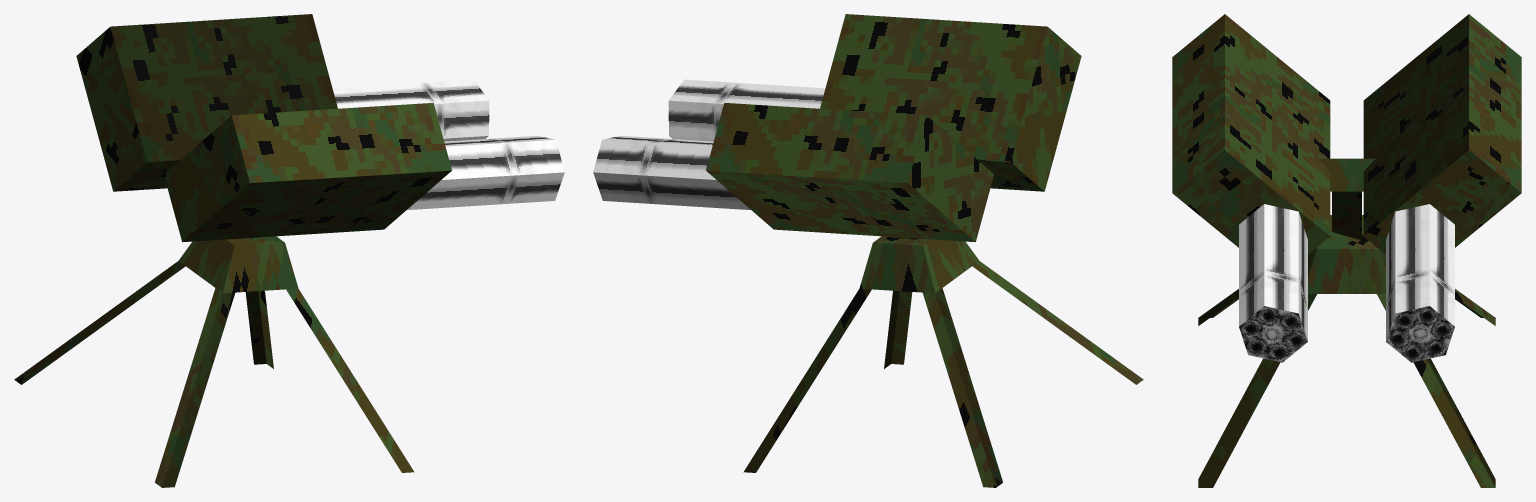
Rendered from primary_352.glb.
The picture shows the model from 3 angles, left to right: view 1: azimuth 30°, elevation 25°; view 2: azimuth 150°, elevation 25°; view 3: azimuth 270°, elevation 25°; orthographic projection.
Visible parts, largest first — view 1: Object; view 2: Object; view 3: Object.
Part boxes in pixels (<box>): Object: <box>14,14,564,487</box>; Object: <box>593,14,1143,487</box>; Object: <box>1172,14,1521,487</box>.
Size of the model in its own units: 1.88 by 1.64 by 1.33.
Materials: 4 (4 with a texture image).
